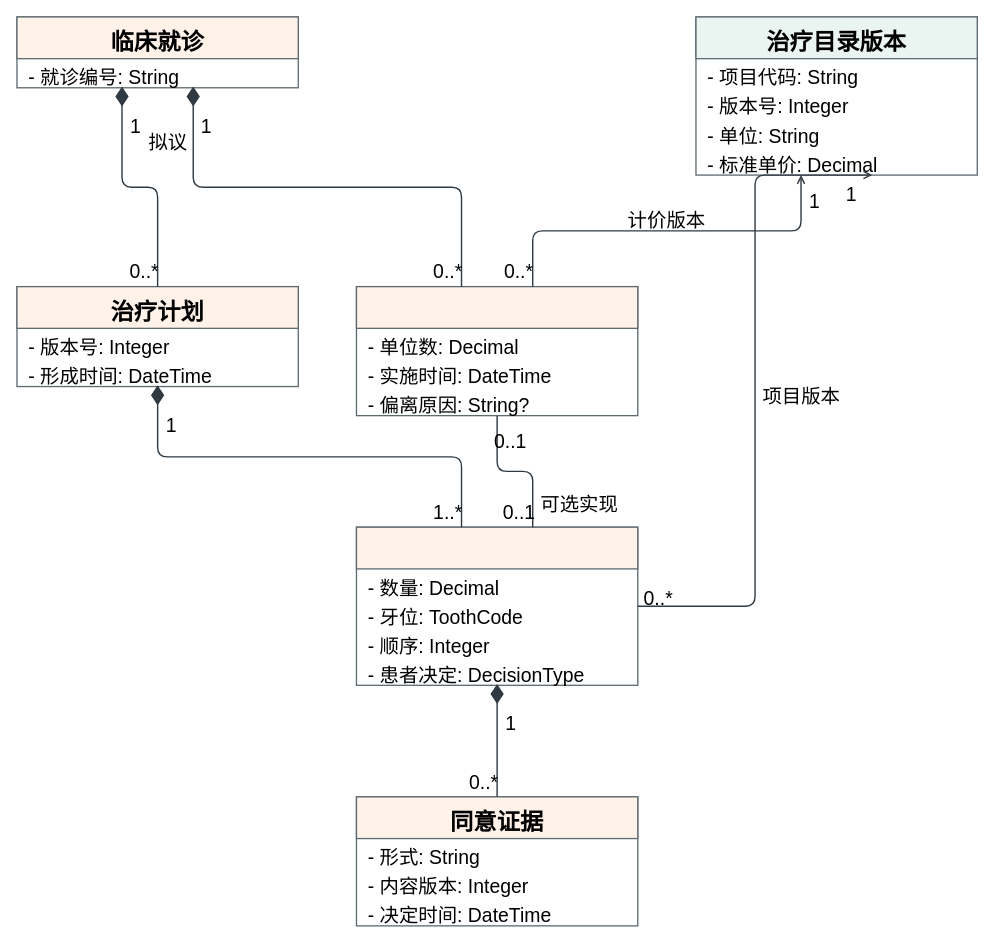
Some shapes in this 995 by 945 pixel diagram are drawn without their labels. Here are the shapes that lost their labels. From the top down, the centre of each, then its label:
(496,307): 实际治疗
(496,547): 计划项目
